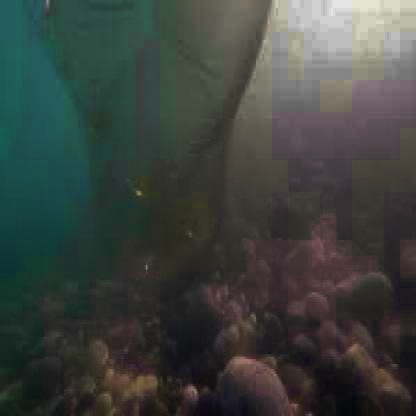pbottle: (24, 2, 295, 262)
